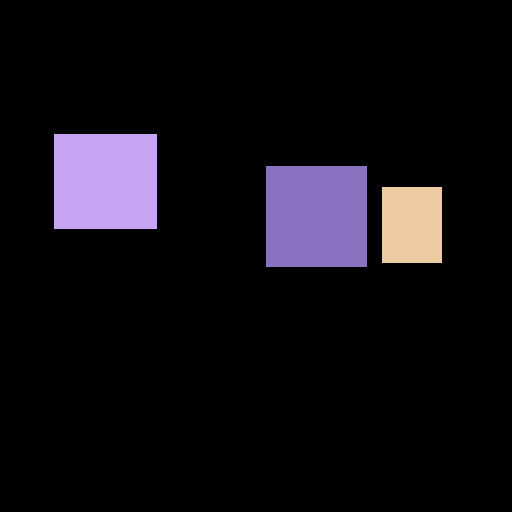rectangle: (382, 187, 441, 262)
square: (266, 166, 366, 266), (54, 134, 156, 228)
